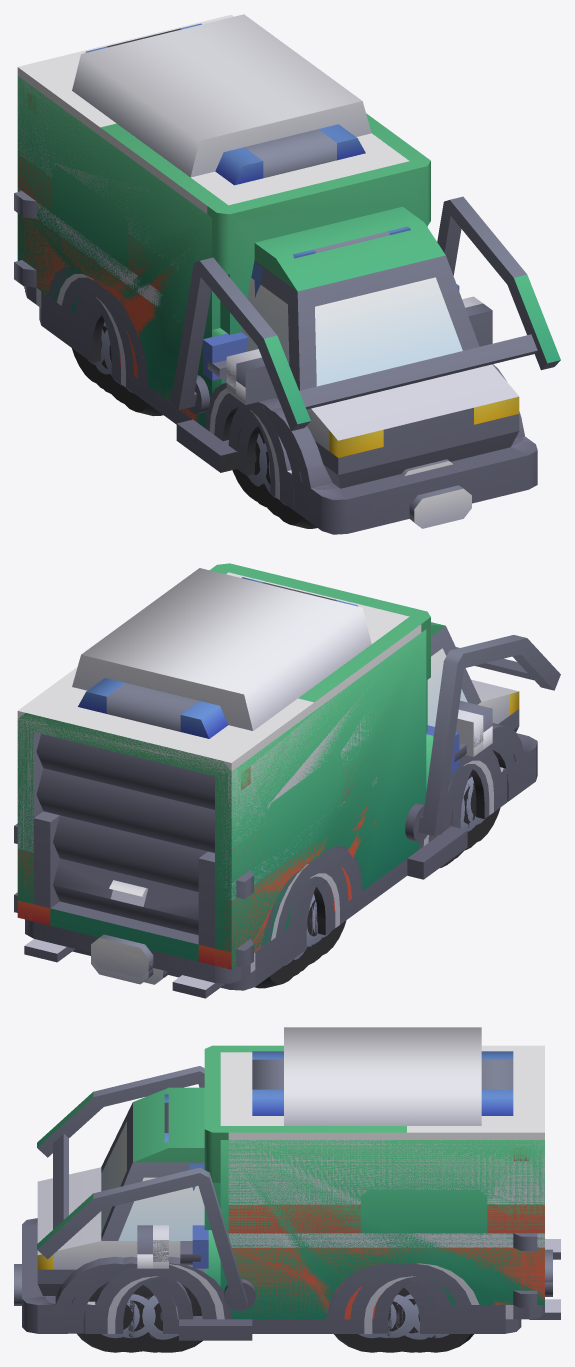
File: cars.glb
3 views of the same model, one above another, from view 1: azimuth 30°, elevation 25°; view 2: azimuth 150°, elevation 25°; view 3: azimuth 270°, elevation 25° (orthographic). The views are drawn at different scales.
Parts seen in each view (by area): view 1: body (×7), arm; view 2: body (×7), door, arm, wheel-back-right, wheel-front-right; view 3: body (×7), arm, wheel-back-left (×5), wheel-front-left (×4).
Part boxes in pixels (left/top/right/bottom): body (×7): left=14, top=14, right=537, bottom=534; arm: left=171, top=196, right=560, bottom=431; body (×7): left=14, top=563, right=537, bottom=998; door: left=36, top=734, right=214, bottom=934; arm: left=405, top=635, right=560, bottom=842; wheel-back-right: left=279, top=899, right=317, bottom=976; wheel-front-right: left=466, top=782, right=500, bottom=843; body (×7): left=14, top=1027, right=560, bottom=1340; arm: left=37, top=1066, right=255, bottom=1310; wheel-back-left (×5): left=334, top=1288, right=473, bottom=1352; wheel-front-left (×4): left=77, top=1284, right=201, bottom=1352.
Bounding box in the file's own units: 1.6 × 1.8 × 3.45.
1 material, 1 textured.
